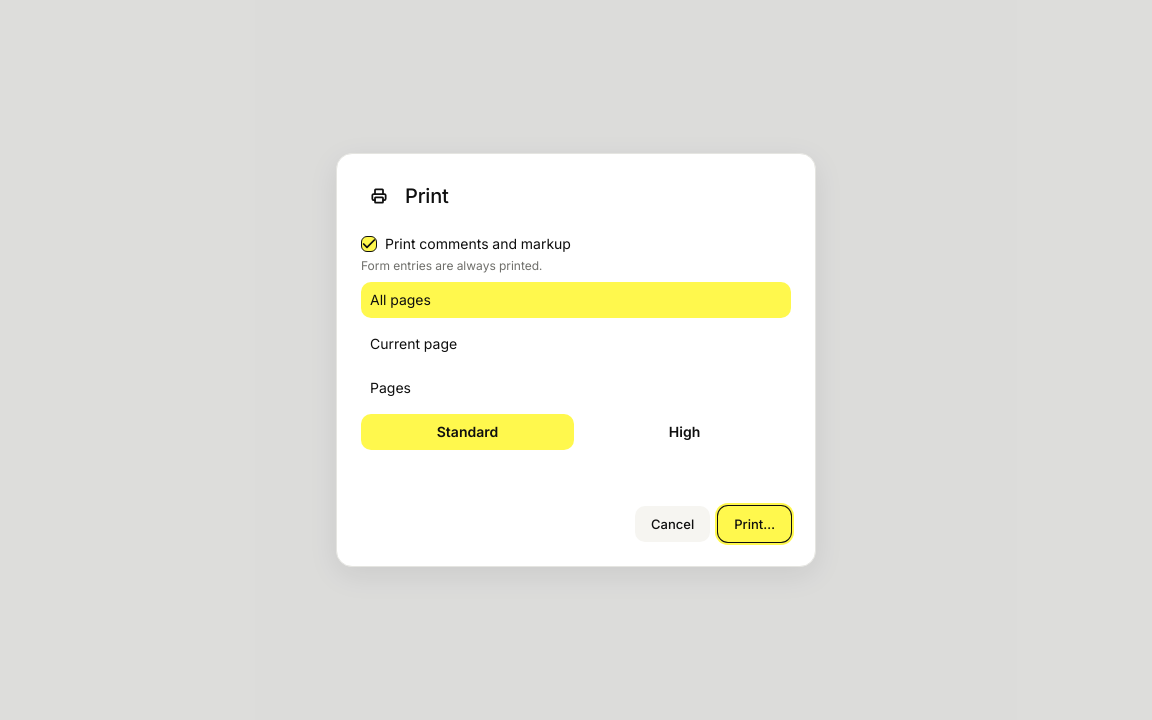
the print flow › treats a set with no pages as an error and never prints
The width and height of the screenshot is (1152, 720).
Click the button "Print…".
click(755, 524)  # box [718,506,791,542]
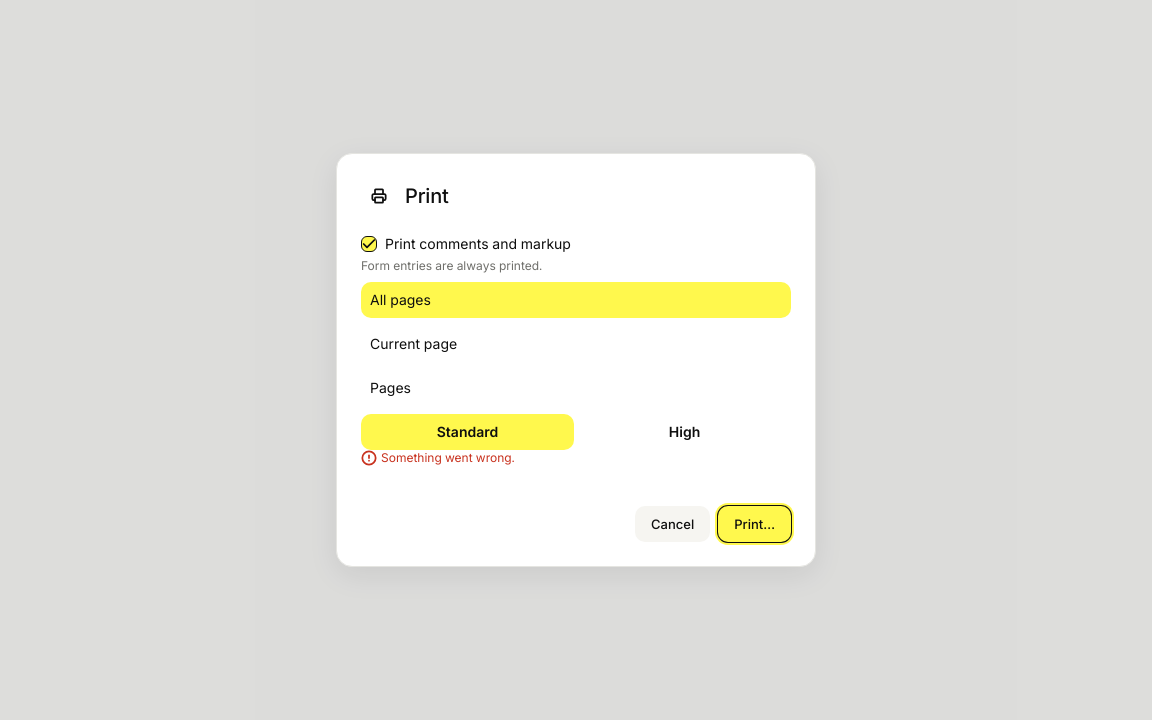
Result: the message "Something went wrong." is shown at [361,450,515,466]
